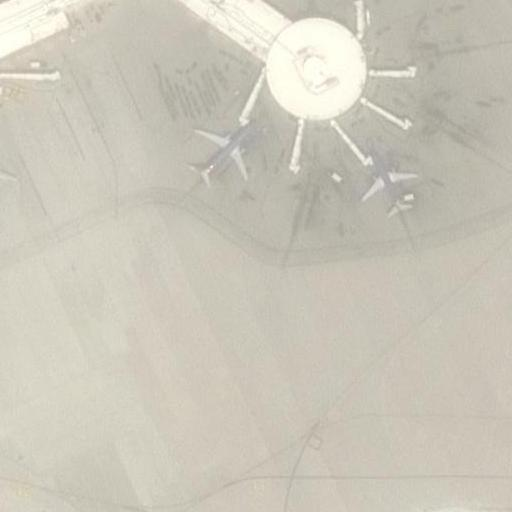Aircraft: (360, 149, 424, 224), (187, 120, 259, 185), (0, 135, 14, 221)
